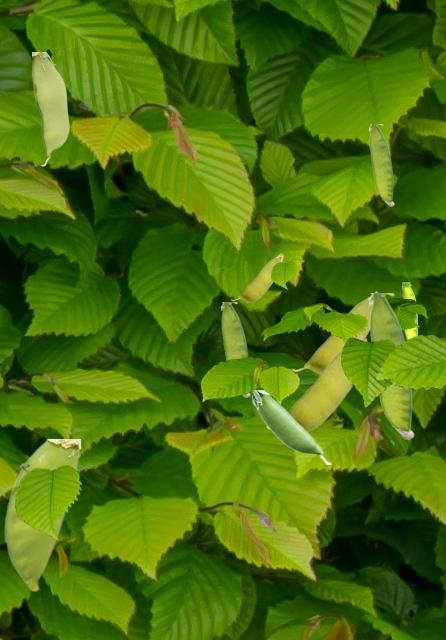pea: (4, 439, 79, 590), (266, 336, 366, 431), (292, 291, 379, 373), (369, 293, 413, 438), (252, 390, 330, 463), (32, 52, 68, 165), (221, 302, 249, 396), (231, 253, 282, 301), (369, 124, 393, 205), (402, 282, 416, 339)
